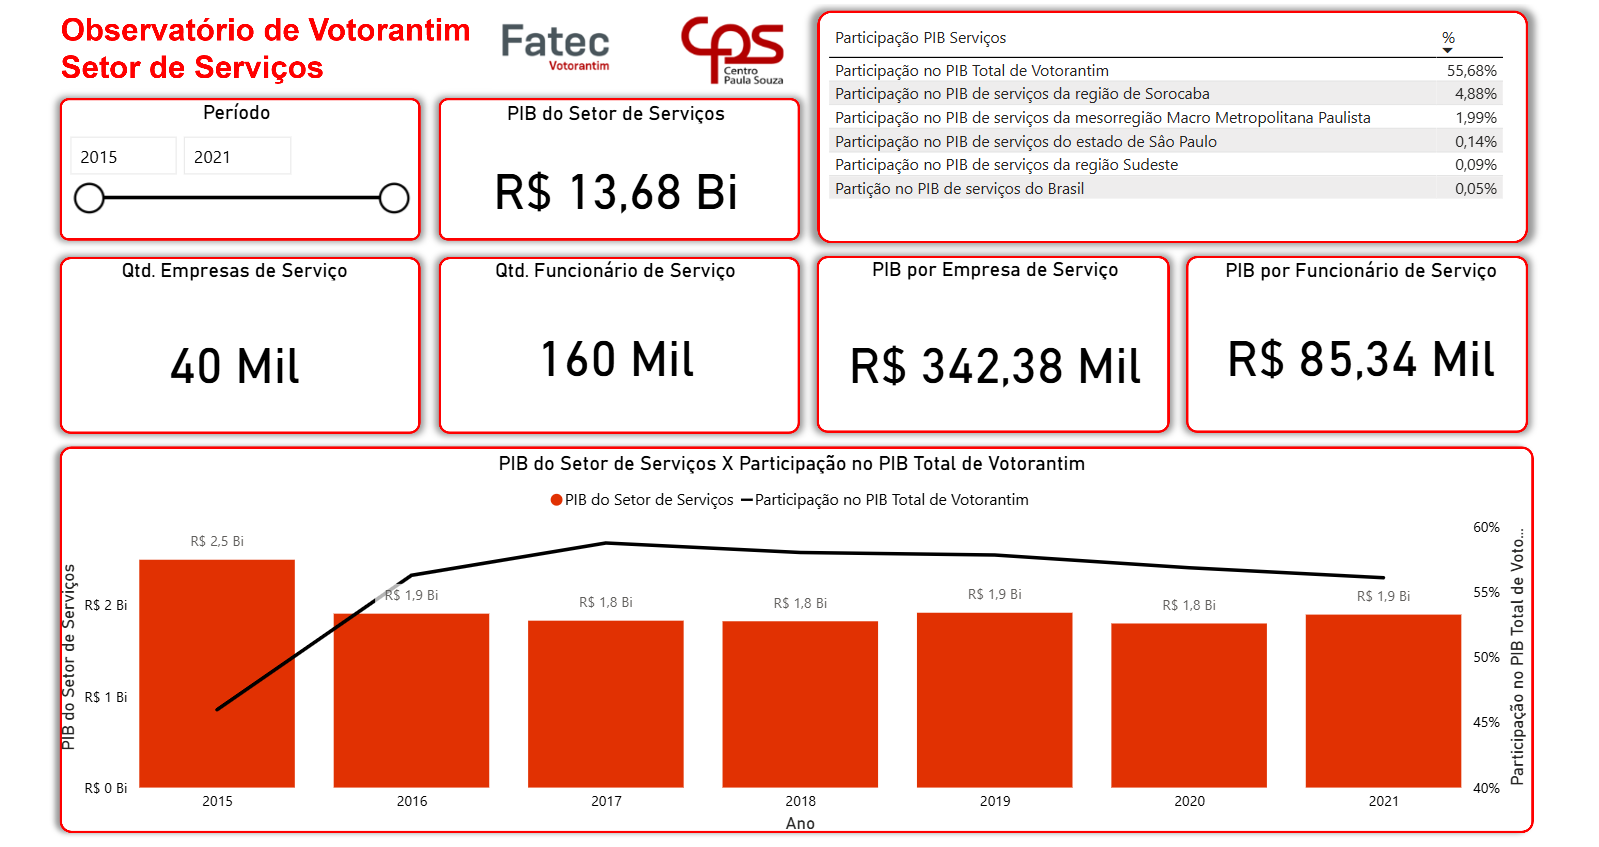

Layout of this report page (visuals, bound fields, positions):
{"tool":"powerbi","page":{"name":"Visão PIB","canvas":[1280,720],"ordinal":1},"visuals":[{"type":"image","box":[0,0,1280.4,720],"z":500},{"type":"slicer","title":"Período","fields":{"Values":["d_calendario.Ano"]},"box":[15.7,86.4,307.5,122.8],"z":1000},{"type":"card","title":"PIB por Funcionário de Serviço","fields":{"Values":["Pib_geral_servicos.pib_per_funcionario"]},"box":[977.2,220.2,288,140.8],"z":2000},{"type":"card","title":"PIB por Empresa de Serviço","fields":{"Values":["Pib_geral_servicos.qtd_empresas_per_capita"]},"box":[664.9,219.2,293.3,153.5],"z":3000},{"type":"tableEx","fields":{"Values":["Pib_geral_servicos.Variável","Avg(Pib_geral_servicos.% de representacao)"]},"box":[665,17.7,585.5,192.5],"z":4000},{"type":"lineStackedColumnComboChart","title":"PIB do Setor de Serviços X Participação no PIB Total de Votorantim","fields":{"Category":["d_calendario.Ano"],"Y":["Sum(Pib_geral_servicos.PIB_Corrigido)"],"Y2":["Pib_geral_servicos.Particip_total_pib_votorantim"]},"box":[14.7,383.1,1250.5,328.1],"z":5000},{"type":"card","title":"PIB do Setor de Serviços","fields":{"Values":["Sum(Pib_geral_servicos.PIB_Corrigido)"]},"box":[342,87,298,123],"z":6000},{"type":"card","title":"Qtd. Funcionário de Serviço","fields":{"Values":["Pib_geral_servicos.qtd_funcionarios_servicos"]},"box":[334.6,220.2,312.3,140.8],"z":7000},{"type":"card","title":"Qtd. Empresas de Serviço","fields":{"Values":["Pib_geral_servicos.qtd_empresas_servicos"]},"box":[13.8,220.2,309.1,152.5],"z":8000}]}

Visuals, with their boxes in screenshot pixels (x1, y1, x2, y2):
image: left=46, top=0, right=1528, bottom=834
"Período" slicer: left=64, top=100, right=420, bottom=242
"PIB por Funcionário de Serviço" card: left=1177, top=255, right=1511, bottom=418
"PIB por Empresa de Serviço" card: left=816, top=254, right=1155, bottom=432
tableEx - Pib_geral_servicos.Variável x Avg(Pib_geral_servicos.% de representacao): left=816, top=20, right=1494, bottom=243
"PIB do Setor de Serviços X Participação no PIB Total de Votorantim" lineStackedColumnComboChart: left=63, top=444, right=1511, bottom=823
"PIB do Setor de Serviços" card: left=442, top=101, right=787, bottom=243
"Qtd. Funcionário de Serviço" card: left=433, top=255, right=795, bottom=418
"Qtd. Empresas de Serviço" card: left=62, top=255, right=420, bottom=432
